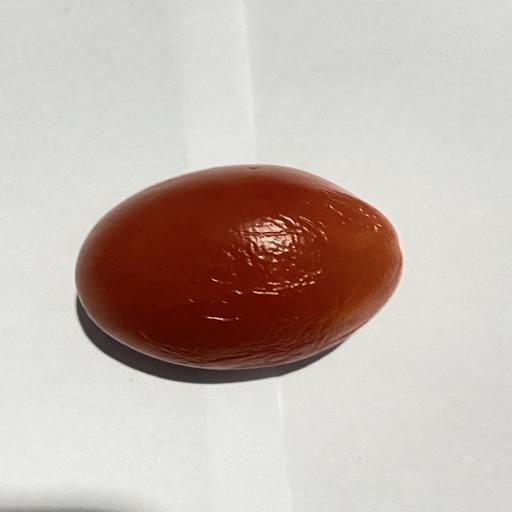spoiled: (76, 165, 402, 369)
